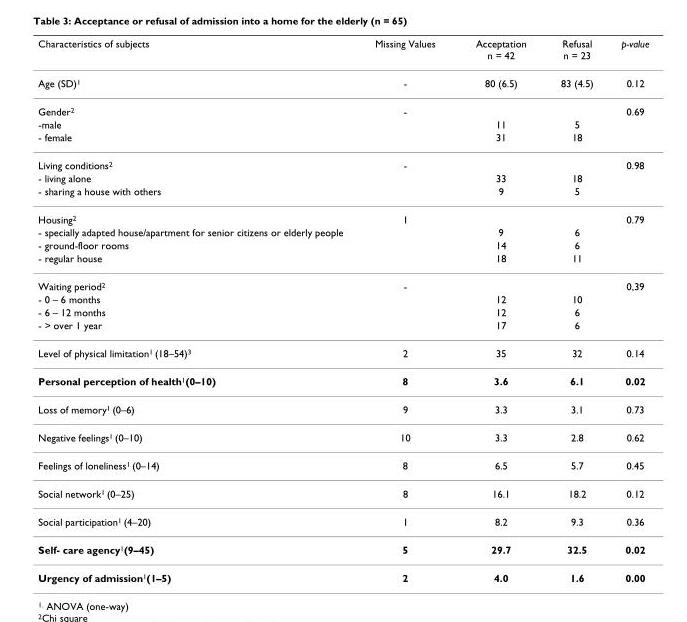table: (37, 37, 648, 583)
table column: (37, 37, 358, 583), (358, 37, 454, 583), (454, 37, 542, 583), (542, 37, 606, 583), (606, 37, 648, 583)
table column header: (37, 37, 648, 68)
table row: (37, 37, 648, 68), (37, 422, 648, 451), (37, 68, 648, 96), (37, 338, 648, 366), (37, 366, 648, 394), (37, 394, 648, 422), (37, 451, 648, 479), (37, 479, 648, 507), (37, 507, 648, 535), (37, 535, 648, 563), (37, 96, 648, 117), (37, 150, 648, 171), (37, 204, 648, 225), (37, 271, 648, 292), (37, 130, 648, 150), (37, 184, 648, 204), (37, 251, 648, 271), (37, 318, 648, 338), (37, 563, 648, 583), (37, 117, 648, 130), (37, 171, 648, 184), (37, 225, 648, 238), (37, 238, 648, 251), (37, 292, 648, 305), (37, 305, 648, 318)
